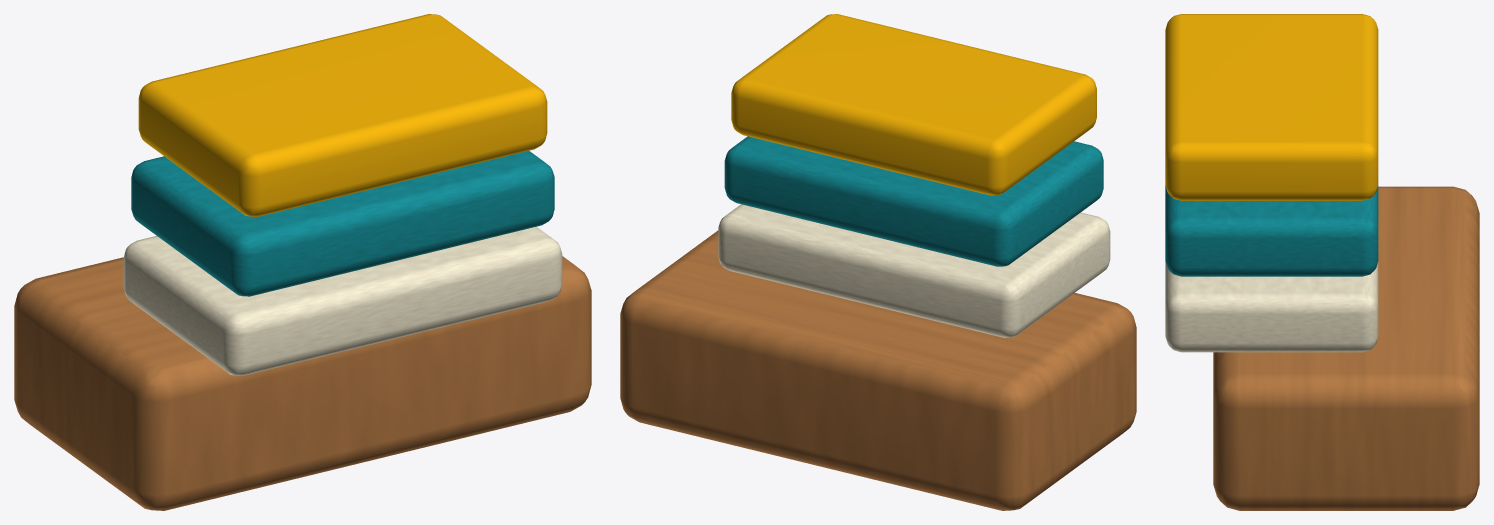
Rendered from display-bookworm.glb.
3 renders of one model, left to right at view 1: azimuth 30°, elevation 25°; view 2: azimuth 150°, elevation 25°; view 3: azimuth 270°, elevation 25°, orthographic. The views are drawn at different scales.
Visible parts, largest first — view 1: Wooden award plinth.002, Books.002, Books, Books.001; view 2: Wooden award plinth.002, Books.002, Books, Books.001; view 3: Wooden award plinth.002, Books.002, Books, Books.001.
Part boxes in pixels (left/top/right/bottom): Wooden award plinth.002: left=14, top=256, right=591, bottom=510; Books.002: left=138, top=14, right=547, bottom=216; Books: left=123, top=226, right=562, bottom=375; Books.001: left=131, top=151, right=554, bottom=296; Wooden award plinth.002: left=620, top=230, right=1136, bottom=510; Books.002: left=731, top=14, right=1096, bottom=195; Books: left=718, top=204, right=1110, bottom=337; Books.001: left=724, top=136, right=1103, bottom=266; Wooden award plinth.002: left=1213, top=186, right=1479, bottom=510; Books.002: left=1165, top=14, right=1378, bottom=200; Books: left=1165, top=261, right=1378, bottom=352; Books.001: left=1165, top=185, right=1378, bottom=276.
Size of the model in its own units: 0.46 by 0.35 by 0.295.
4 materials, 3 textured.
